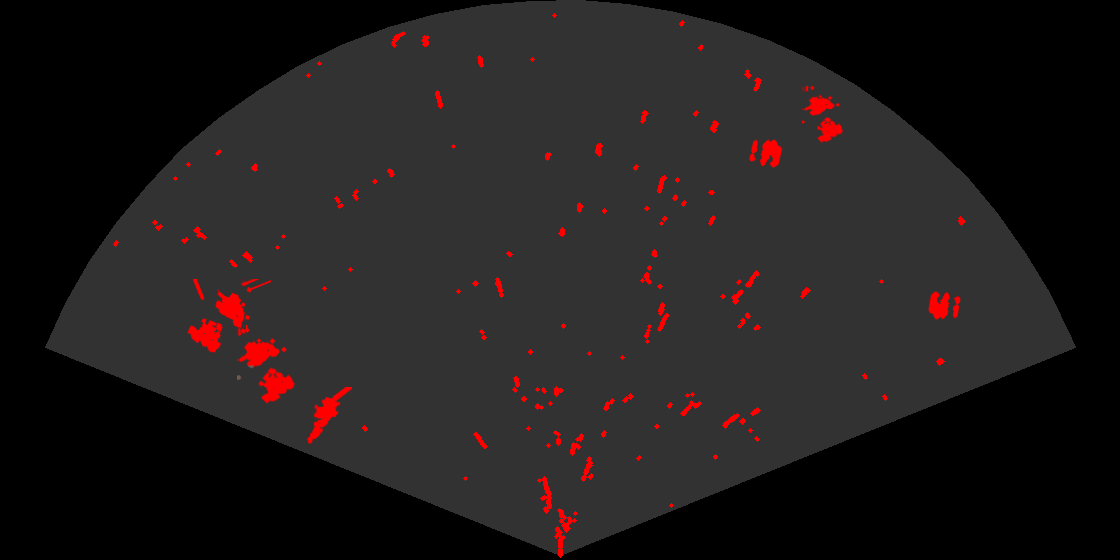ball: (748, 138, 784, 170), (927, 290, 962, 321)
cage: (186, 279, 271, 354), (237, 325, 296, 405), (802, 86, 844, 144)
frogman: (305, 387, 352, 445)
